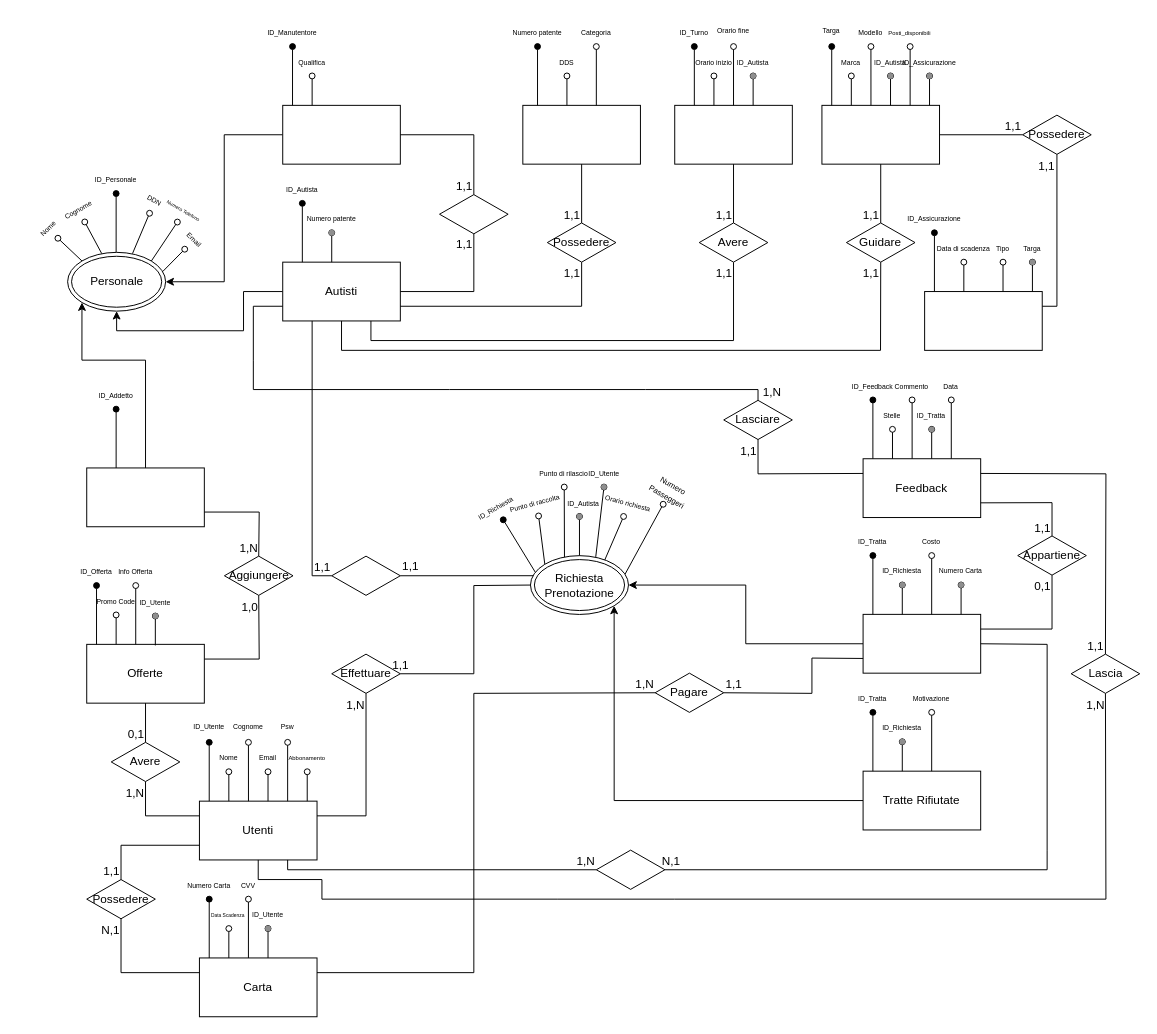
Some shapes in this 1157 by 1034 pixel diagram are drawn without their labels. Each missing label, with the centre of its shape:
"Addetti Marketing" belongs at point (145, 497).
"Asseganto a" belongs at point (365, 575).
"Assicurazione" belongs at point (983, 320).
"Comunicare Guasto" belongs at point (473, 214).
"Manutentori" belongs at point (341, 134).
"Patente" belongs at point (581, 134).
"Preferiti" belongs at point (630, 869).
"Tratte Complete" belongs at point (921, 643).
"Turni" belongs at point (733, 134).
"Veicoli" belongs at point (880, 134).
